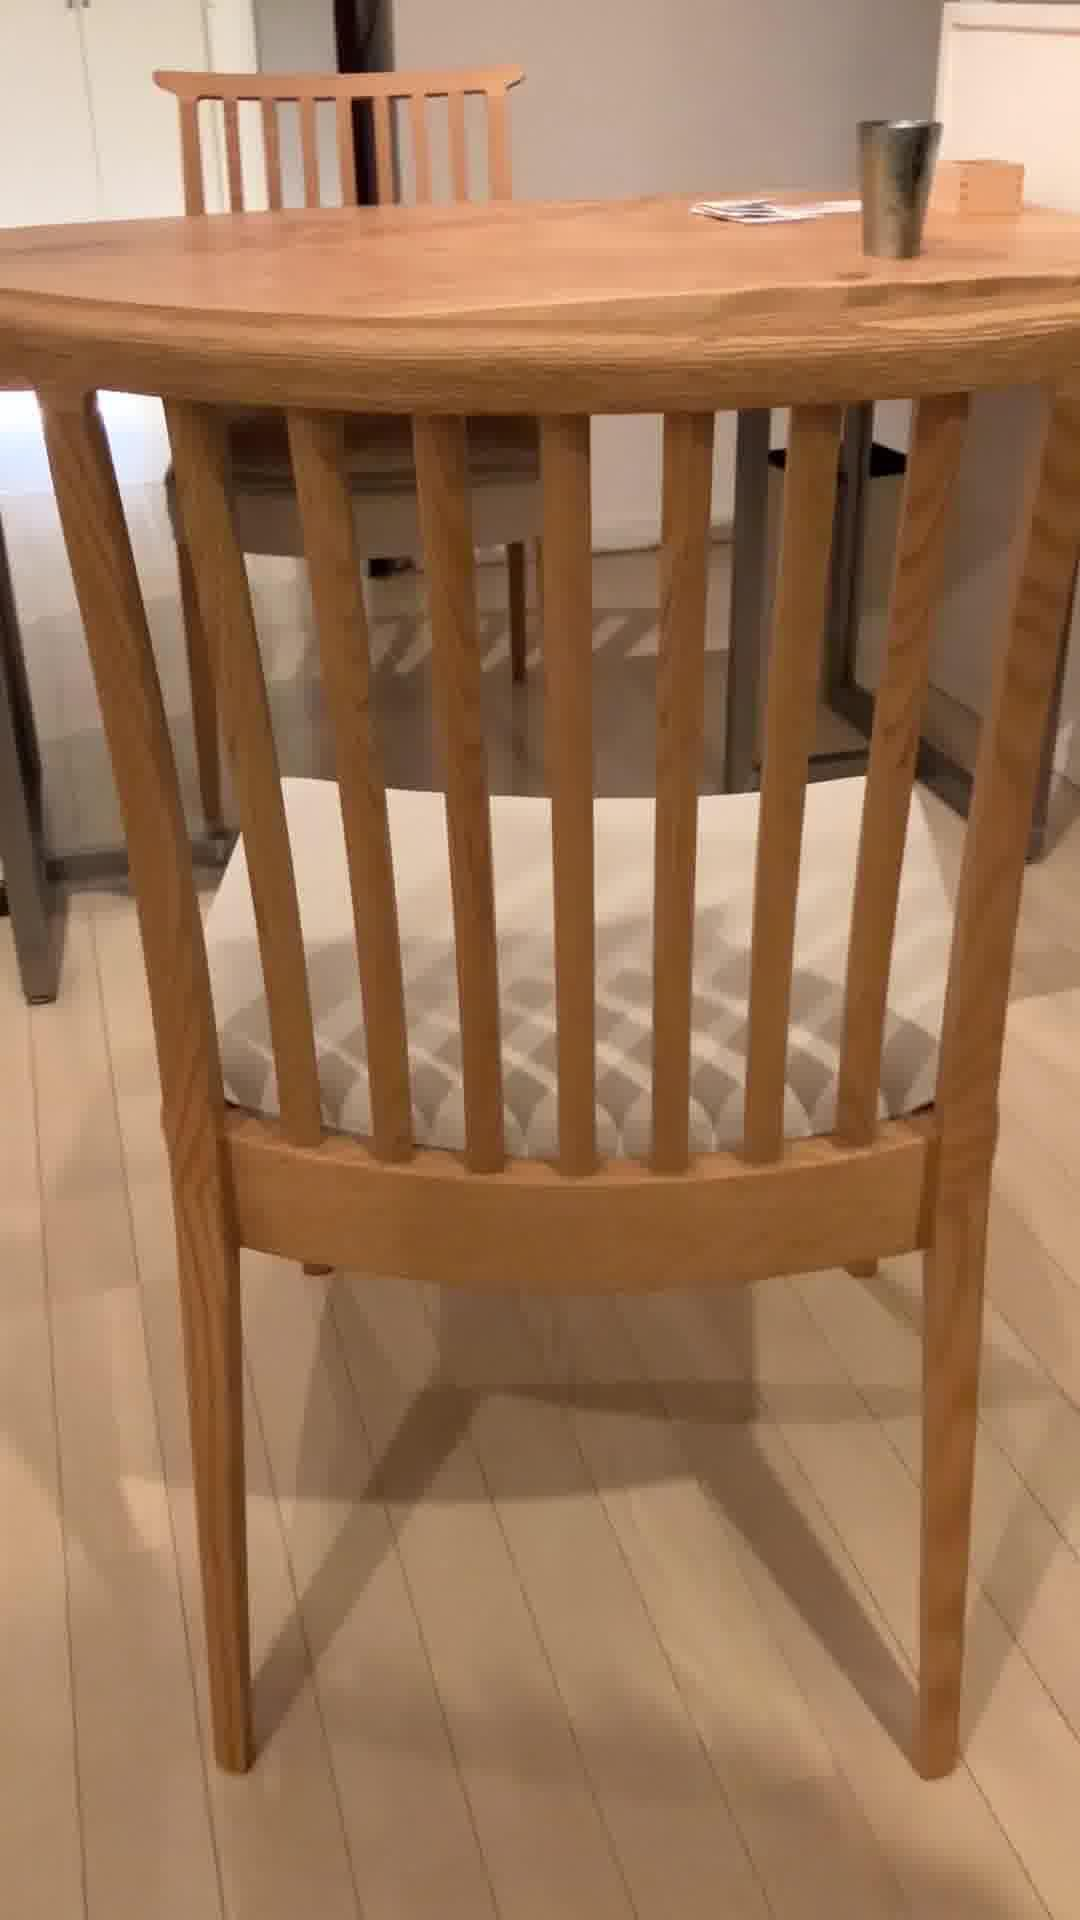takumikan-chair: (0, 278, 1080, 1788)
